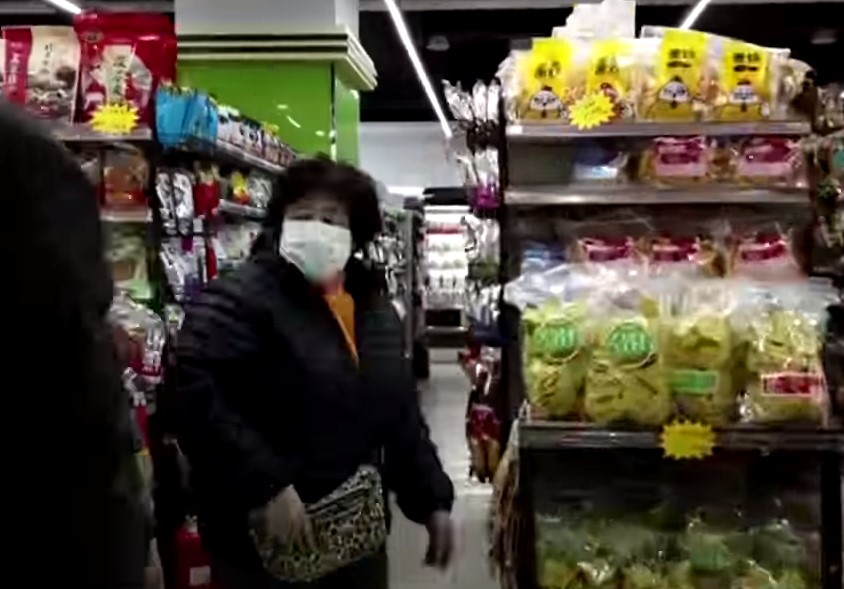face_with_mask: (264, 154, 377, 290)
